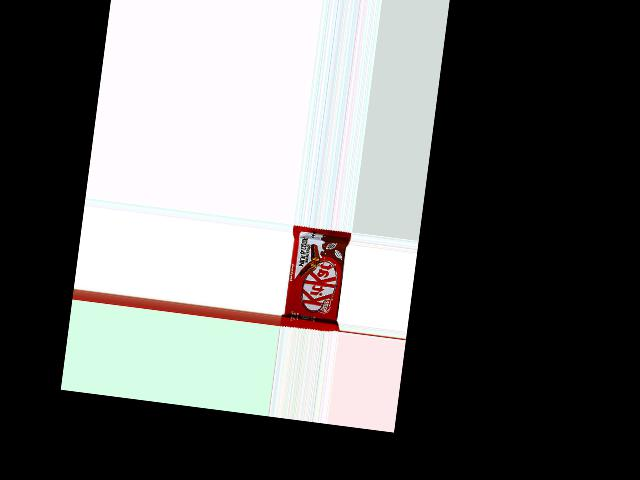chocolate: (279, 224, 351, 332)
